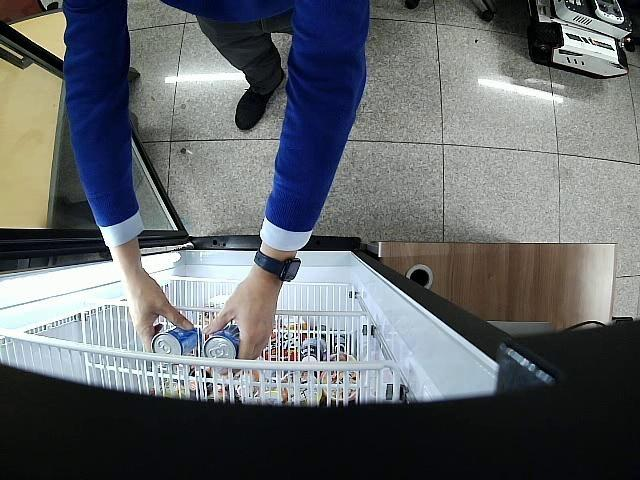15_letsbe: (152, 327, 199, 356), (202, 324, 240, 358)
